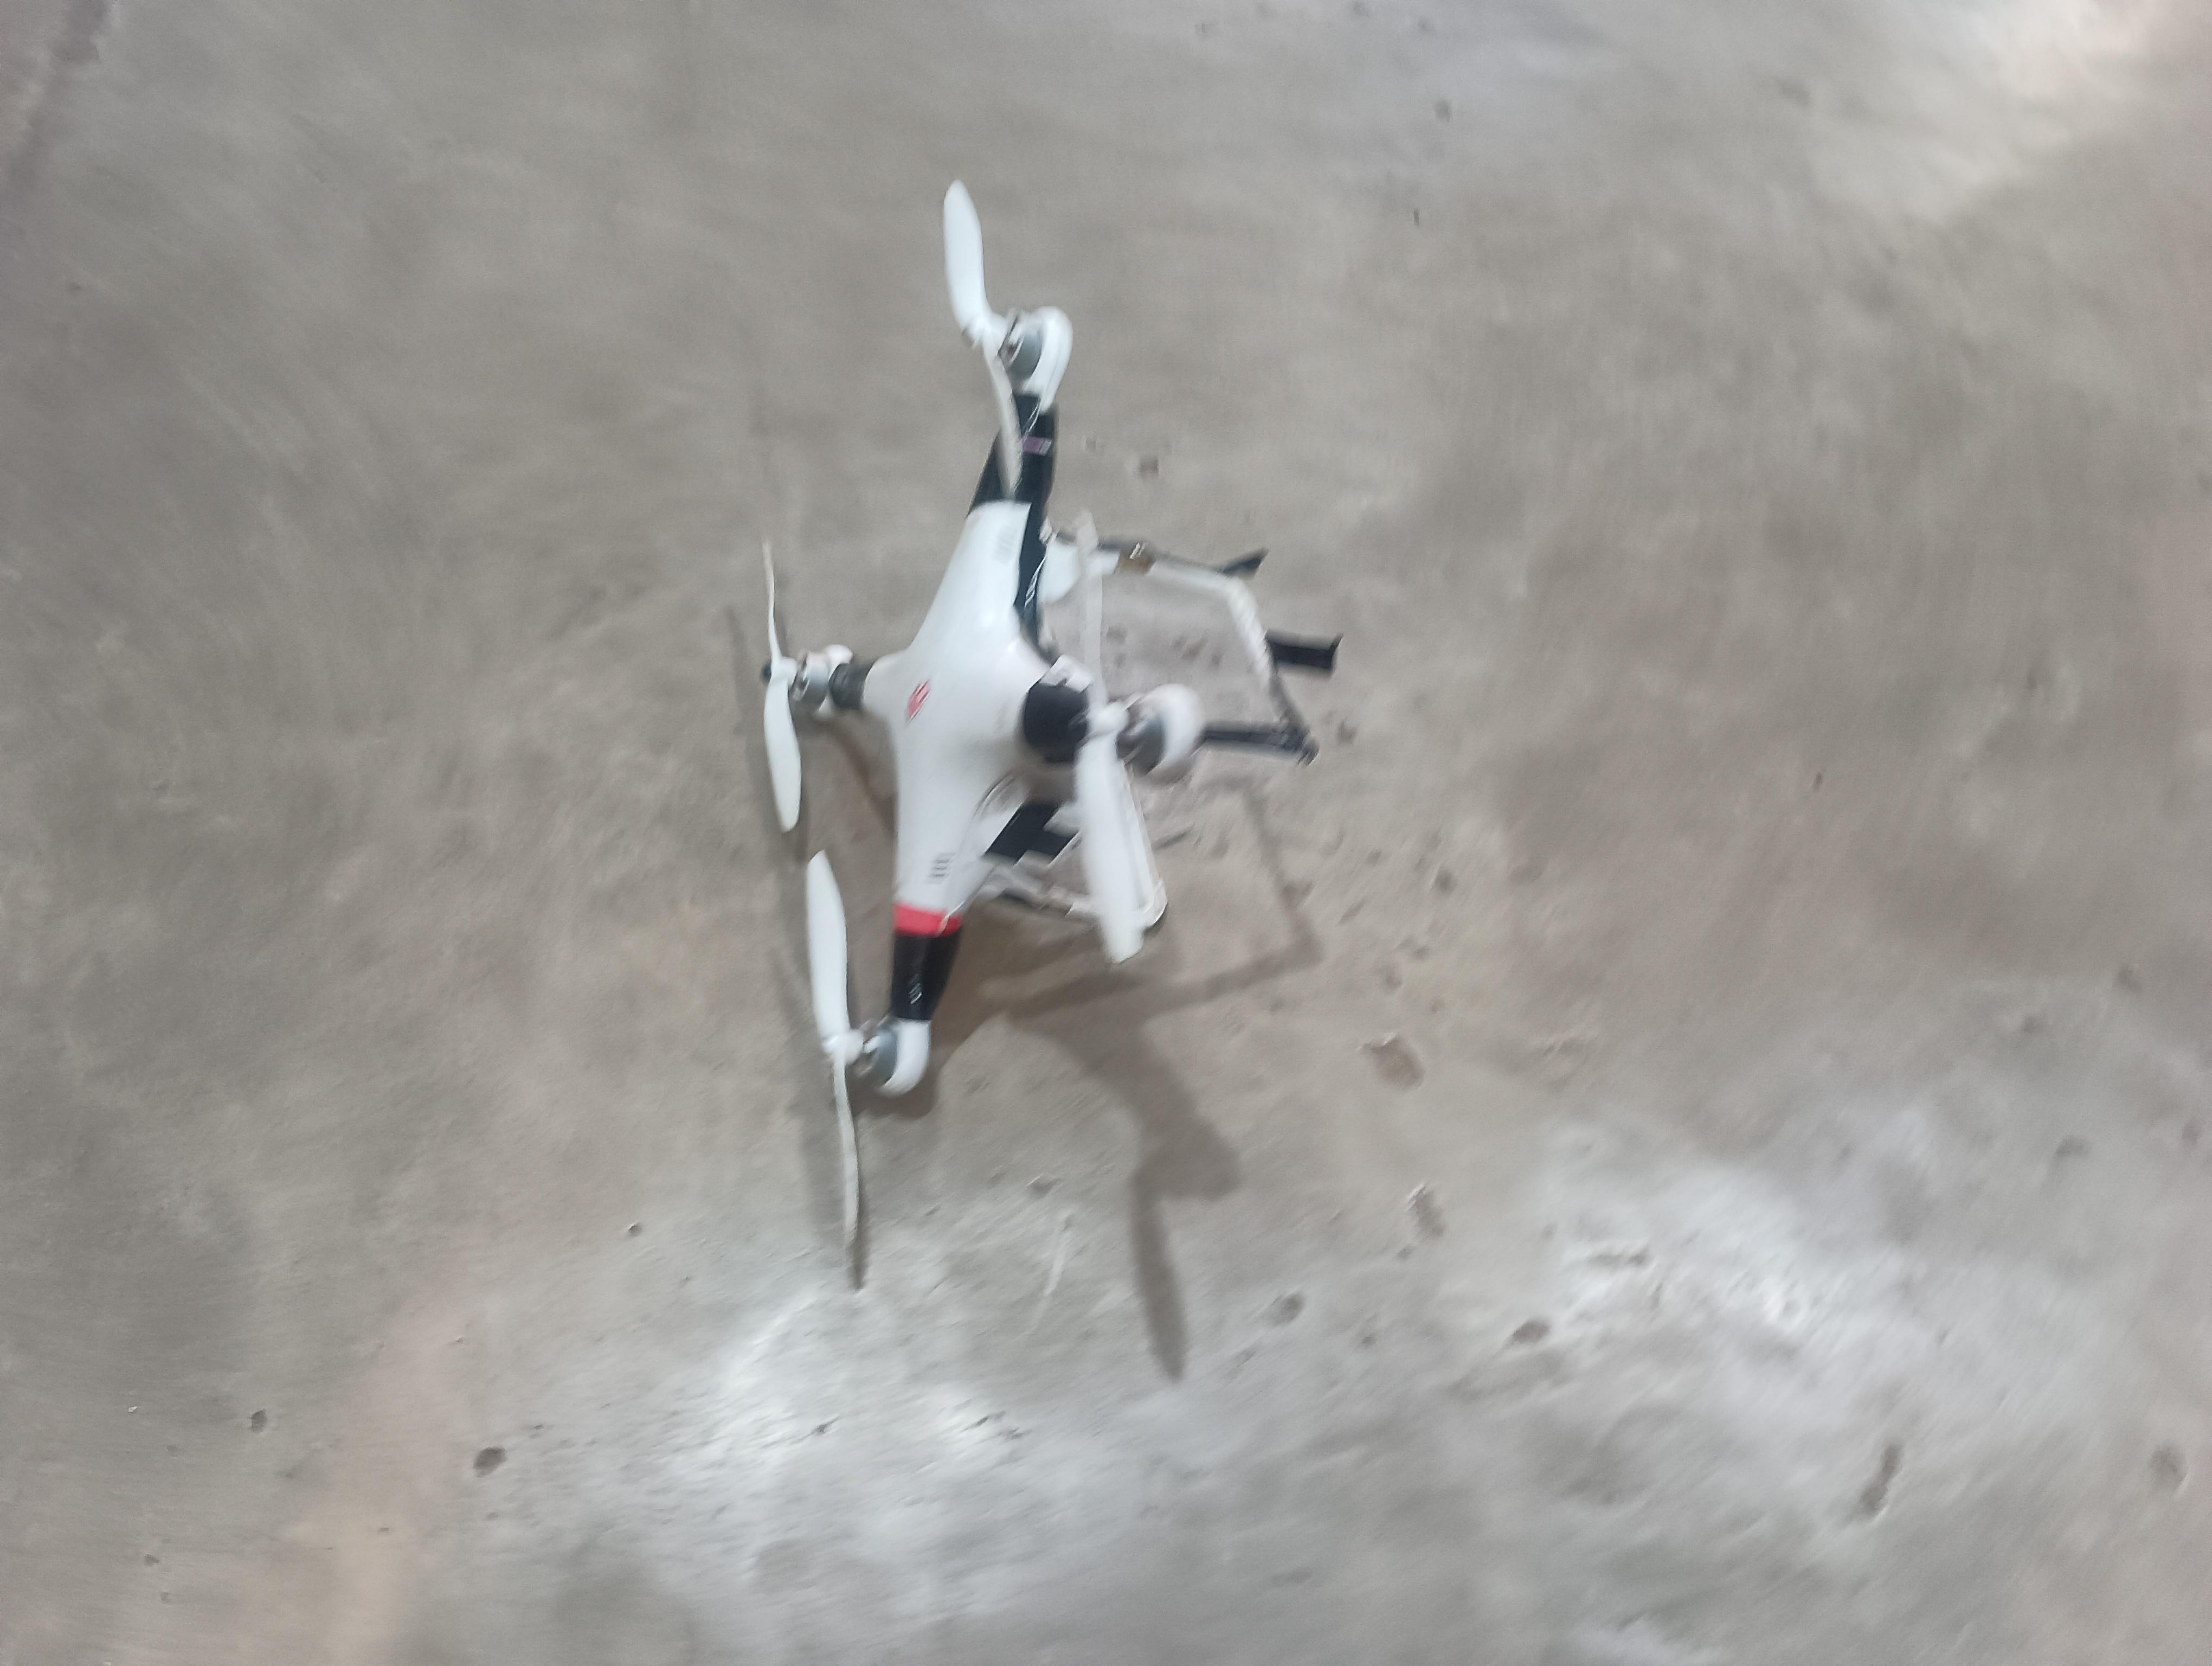drone: (597, 153, 1391, 1285)
